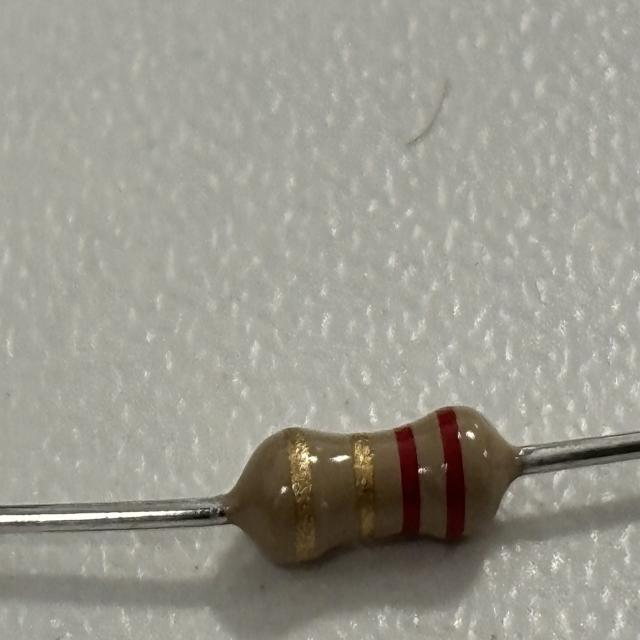resistor: (256, 402, 498, 575)
